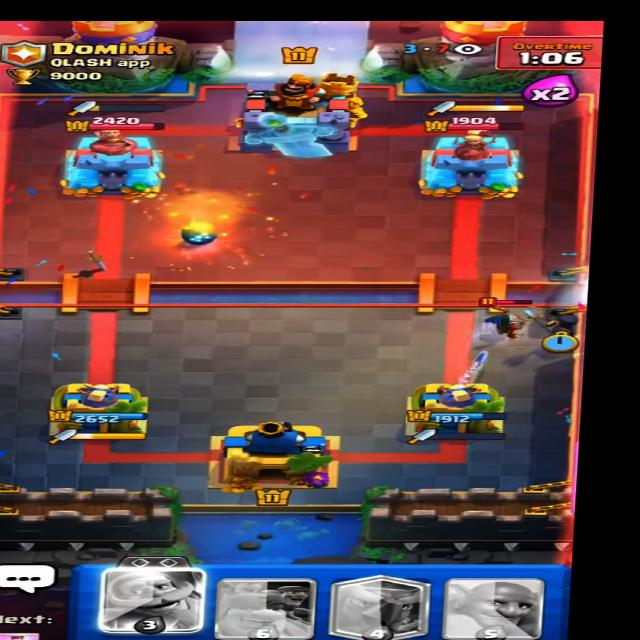bandit: (475, 300, 541, 343)
